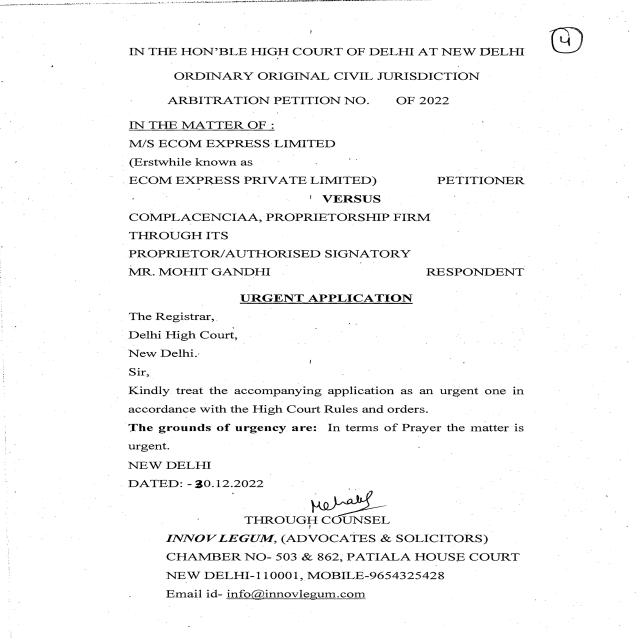page-number: (527, 5, 640, 132)
